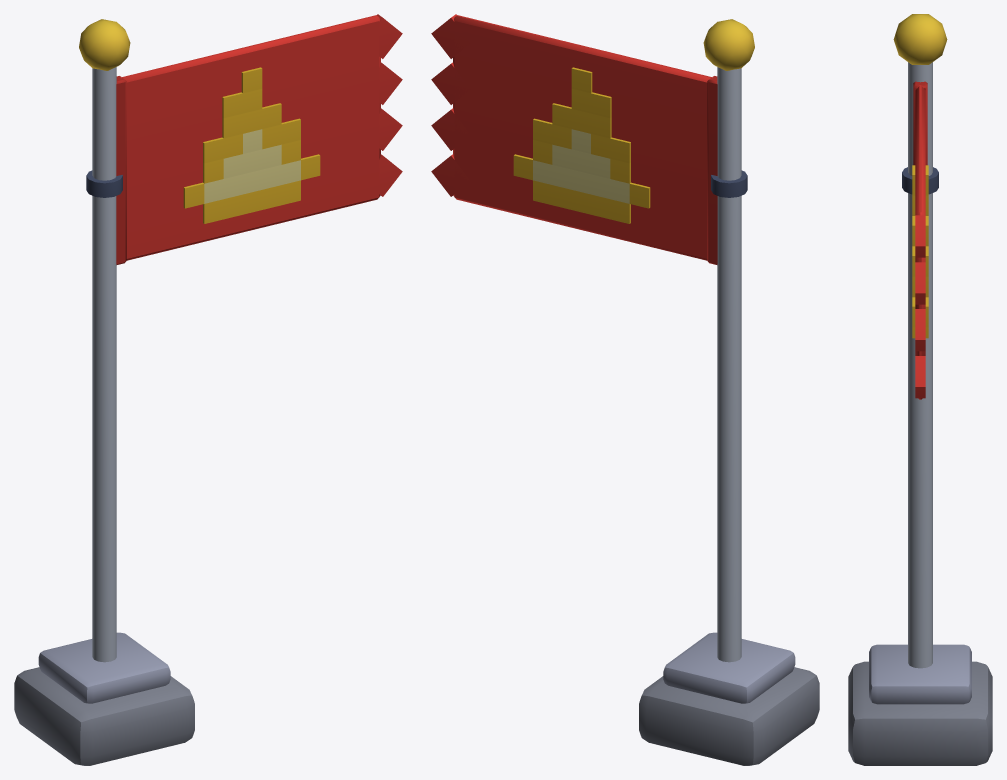
Rendered from lo_flag_flamme.glb.
3 views of the same model, side by side, from view 1: azimuth 30°, elevation 25°; view 2: azimuth 150°, elevation 25°; view 3: azimuth 270°, elevation 25° (orthographic).
Parts seen in each view (by area): view 1: sway_cloth, body; view 2: sway_cloth, body; view 3: body, sway_cloth.
Part boxes in pixels (box(x1,y1,x2,y2)): sway_cloth: box(116, 14, 402, 264); body: box(14, 19, 194, 765); sway_cloth: box(431, 14, 717, 264); body: box(639, 19, 819, 765); body: box(848, 14, 992, 765); sway_cloth: box(912, 81, 928, 399).
Bounding box in the file's own units: 2.03 × 3.88 × 0.7.
